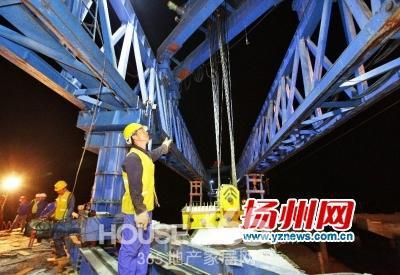helmet: (122, 120, 151, 151), (52, 179, 70, 197)
